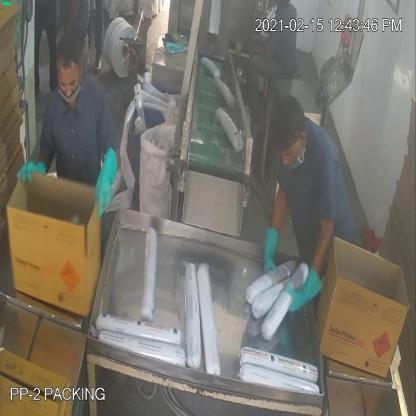glove: (87, 144, 124, 217), (282, 257, 326, 316), (7, 148, 55, 191), (253, 218, 283, 281)
no_glove: (242, 40, 277, 62)
